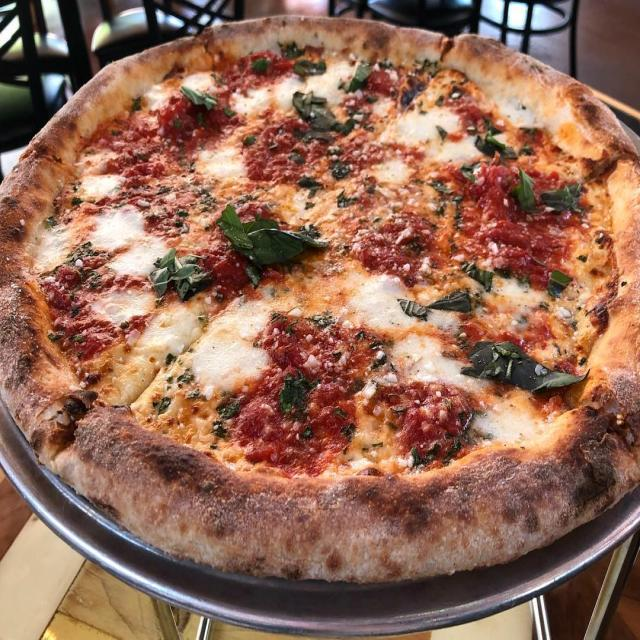basil: (210, 200, 332, 286), (459, 330, 592, 399), (509, 160, 587, 220), (145, 244, 216, 305), (294, 82, 354, 146), (470, 112, 520, 164), (394, 289, 474, 320), (271, 367, 318, 416), (173, 78, 219, 112), (288, 50, 329, 83), (538, 262, 571, 300), (461, 256, 497, 288), (349, 51, 371, 93), (250, 52, 275, 77)
pizza: (0, 18, 640, 580)
